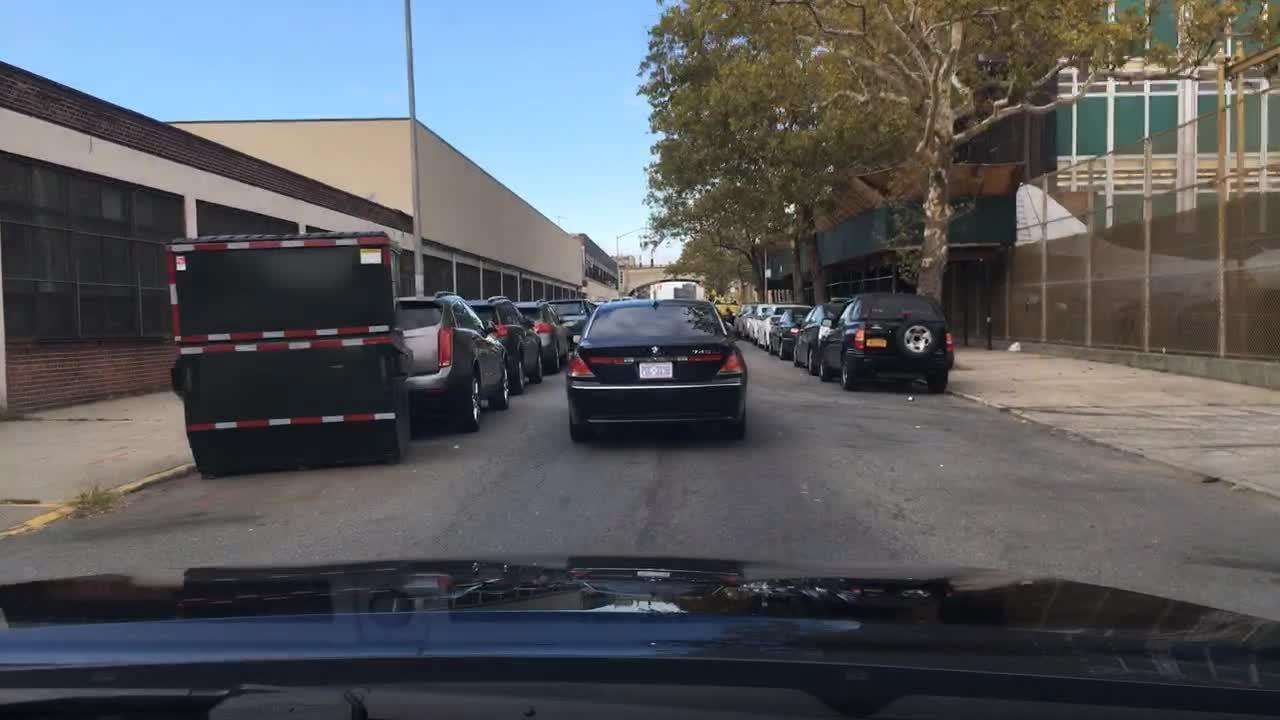bmw: (651, 346, 660, 357)
